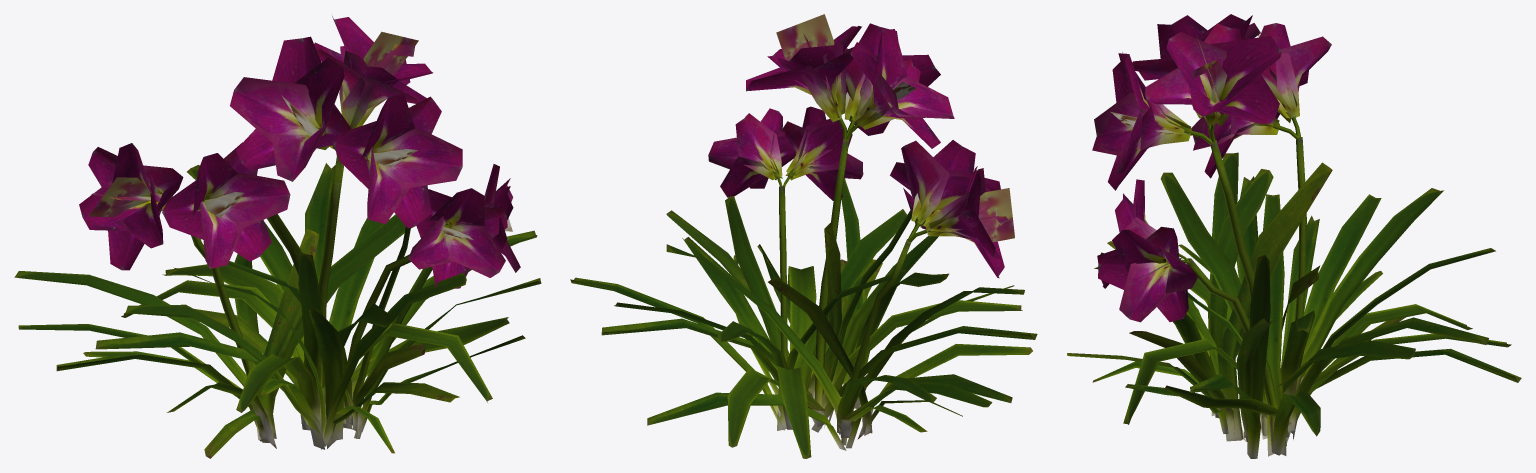
File: Amaryllis_bush_short_magenta.glb
3 views of the same model, side by side, from view 1: azimuth 30°, elevation 25°; view 2: azimuth 150°, elevation 25°; view 3: azimuth 270°, elevation 25° (orthographic). The views are drawn at different scales.
Visible parts, largest first — view 1: bush; view 2: bush; view 3: bush.
Boxes of the visible parts, bbox=[...] form: bush: bbox=[14, 16, 541, 458]; bush: bbox=[570, 14, 1037, 458]; bush: bbox=[1067, 14, 1521, 458].
Bounding box in the file's own units: 2.76 × 2.32 × 2.27.
1 material, 1 textured.
